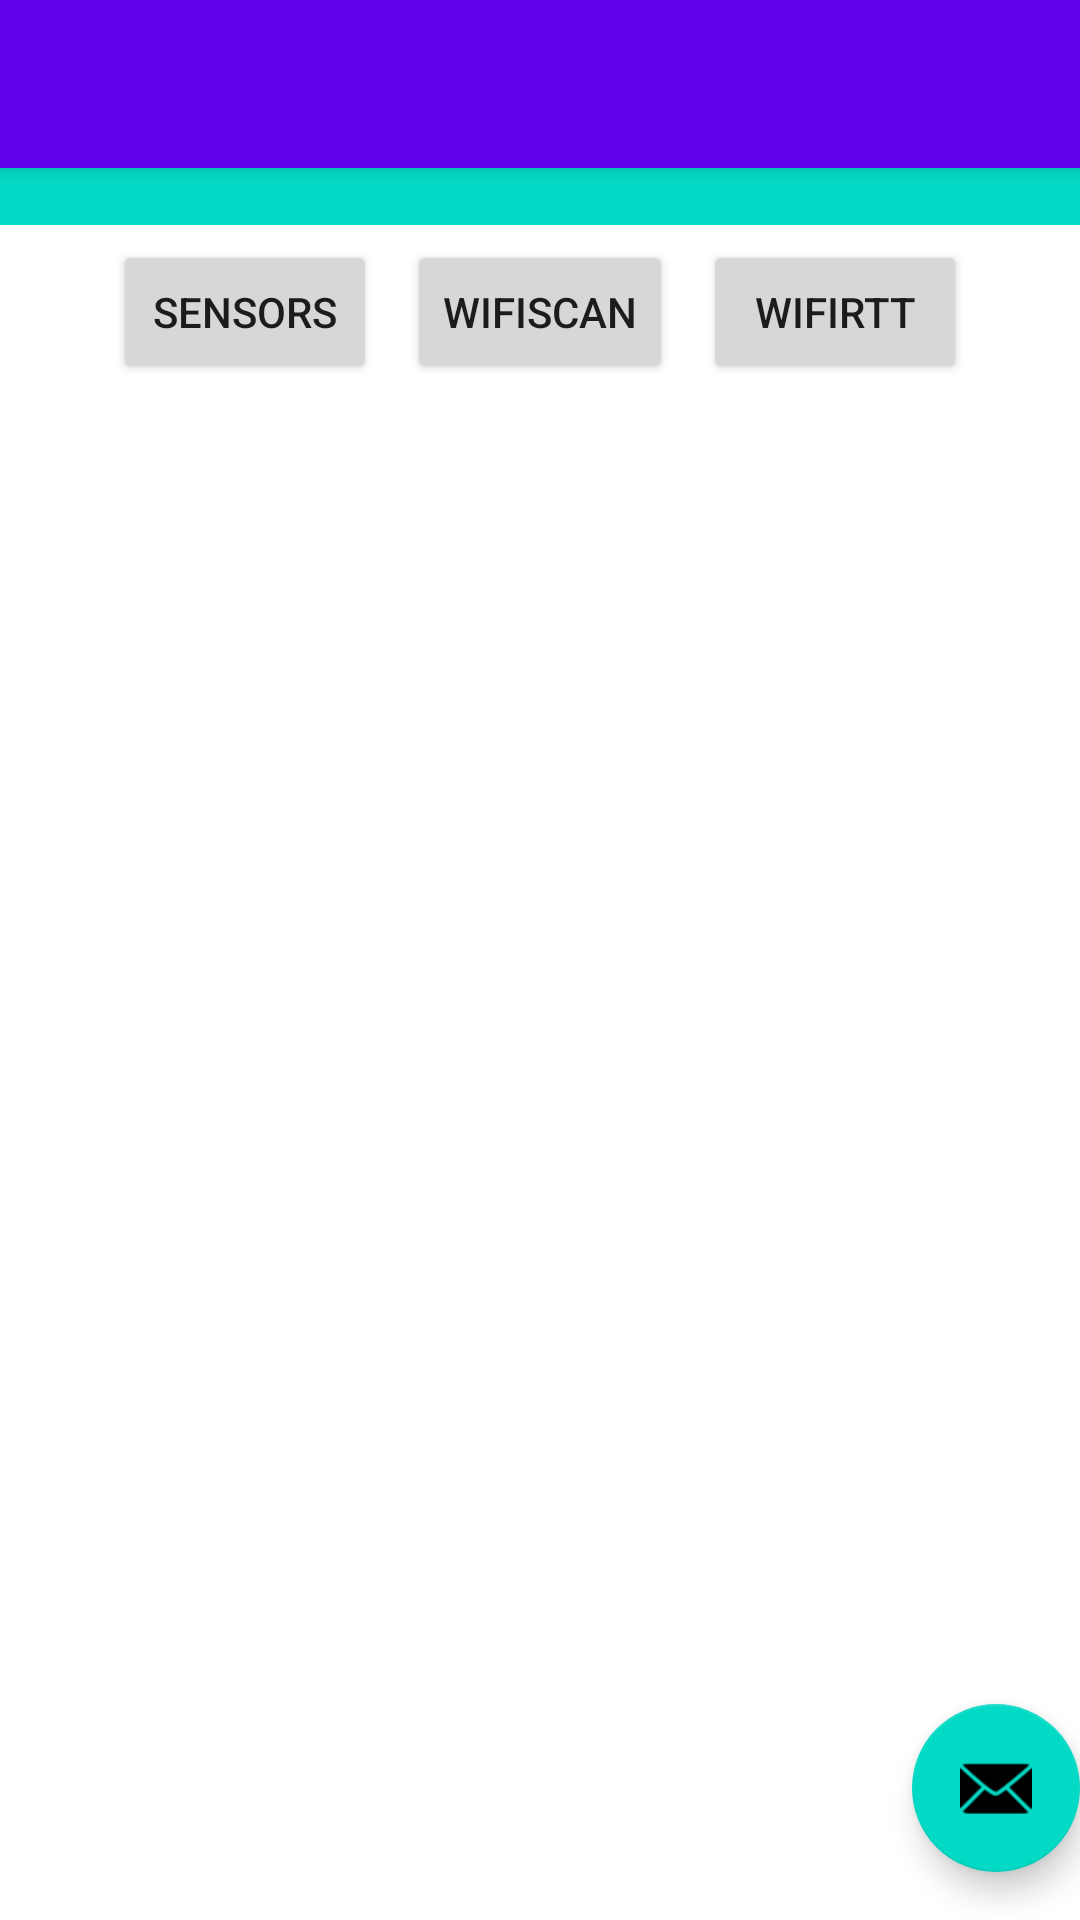

Named icons in this screenshot (1080w x 1920h) and their centers, (x,y):
email: (996,1788)
